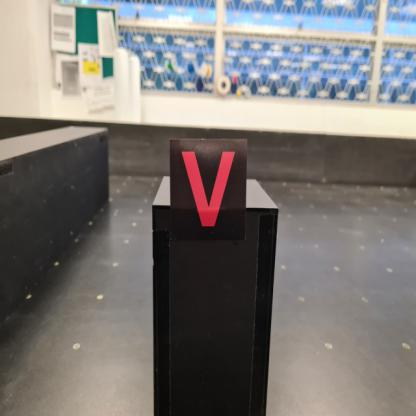v: (170, 138, 249, 244)
